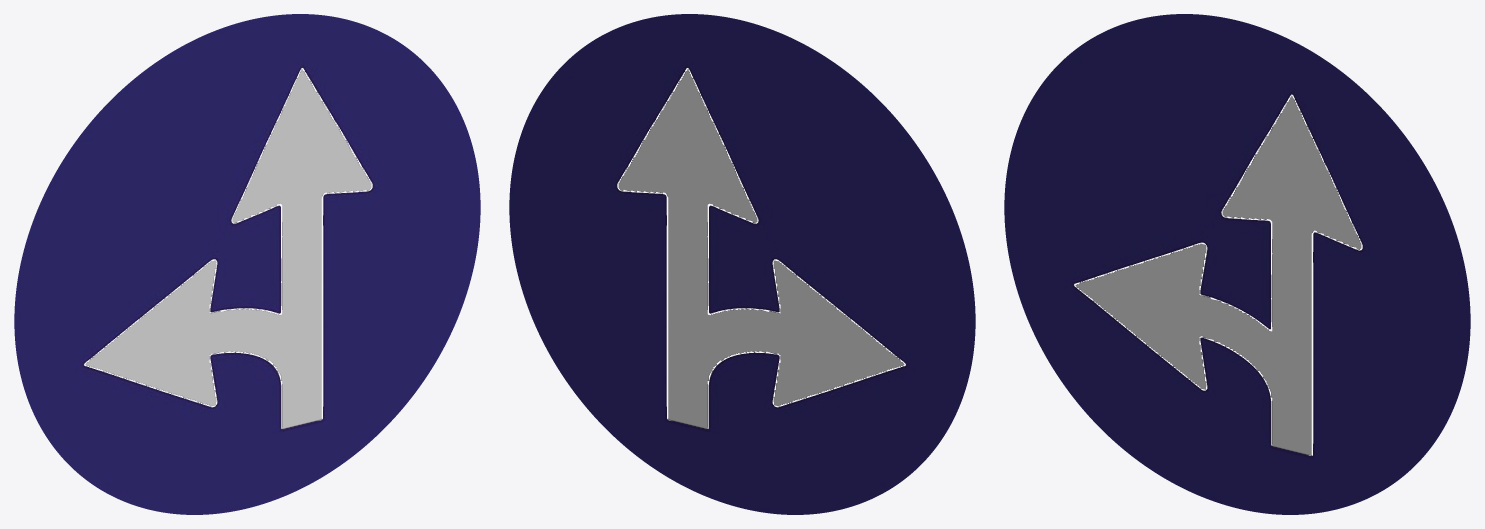
File: ileri-ve-sola-mecburi-yon.dae
3 renders of one model, left to right at view 1: azimuth 30°, elevation 25°; view 2: azimuth 150°, elevation 25°; view 3: azimuth 330°, elevation 25°, orthographic.
Parts seen in each view (by area): view 1: Circle; view 2: Circle; view 3: Circle.
Part boxes in pixels (<box>): Circle: <box>14,14,480,514</box>; Circle: <box>509,14,975,514</box>; Circle: <box>1004,14,1470,514</box>.
Size of the model in its own units: 0.24 by 1.05e-08 by 0.24.
Materials: 1 (1 with a texture image).
